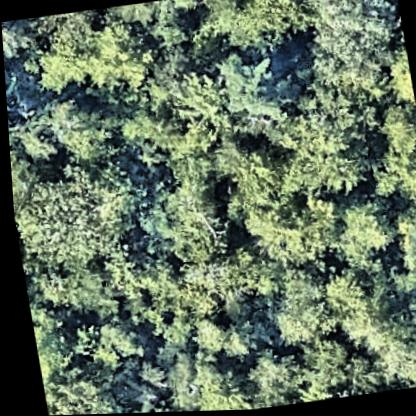tree-top: (8, 153, 140, 283), (125, 142, 241, 270), (302, 0, 408, 103), (37, 17, 158, 106), (268, 99, 372, 202), (241, 191, 338, 278), (188, 0, 319, 62), (167, 62, 241, 150), (356, 103, 416, 208), (205, 46, 282, 126), (36, 86, 116, 161), (328, 197, 401, 274), (363, 293, 416, 388), (226, 137, 292, 210), (266, 274, 332, 347), (113, 0, 197, 55), (36, 362, 117, 416), (240, 341, 306, 406), (181, 356, 257, 412), (312, 263, 369, 332), (294, 337, 352, 396), (11, 104, 62, 168), (90, 307, 145, 359), (388, 201, 416, 282), (185, 314, 229, 365), (330, 353, 378, 399), (1, 16, 46, 64), (382, 268, 416, 305)
